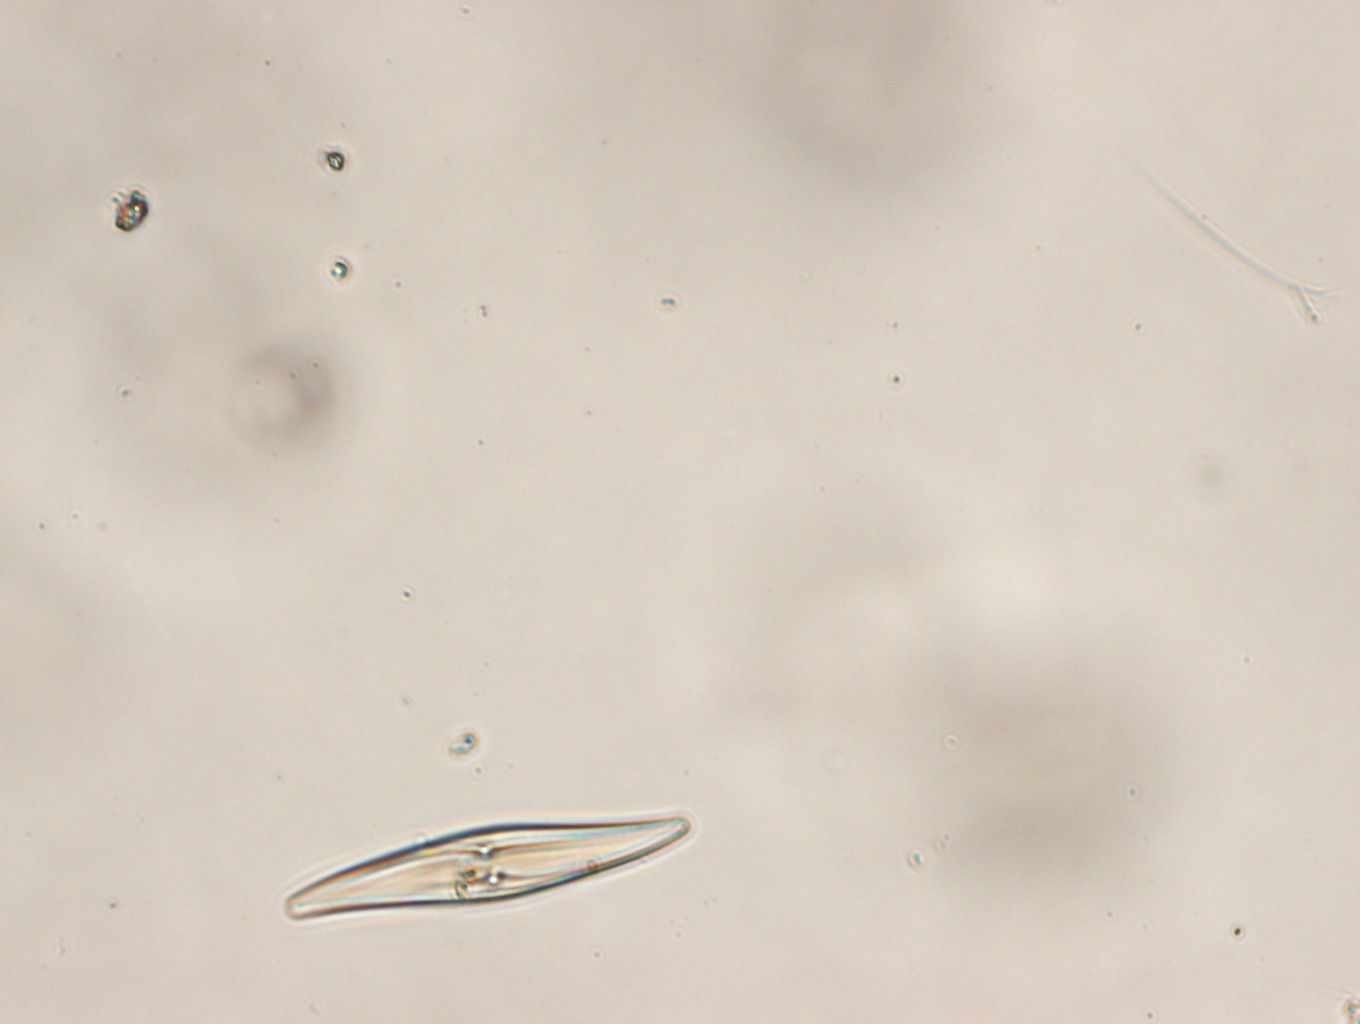pleurosigma pelagicum: (281, 812, 691, 924)
